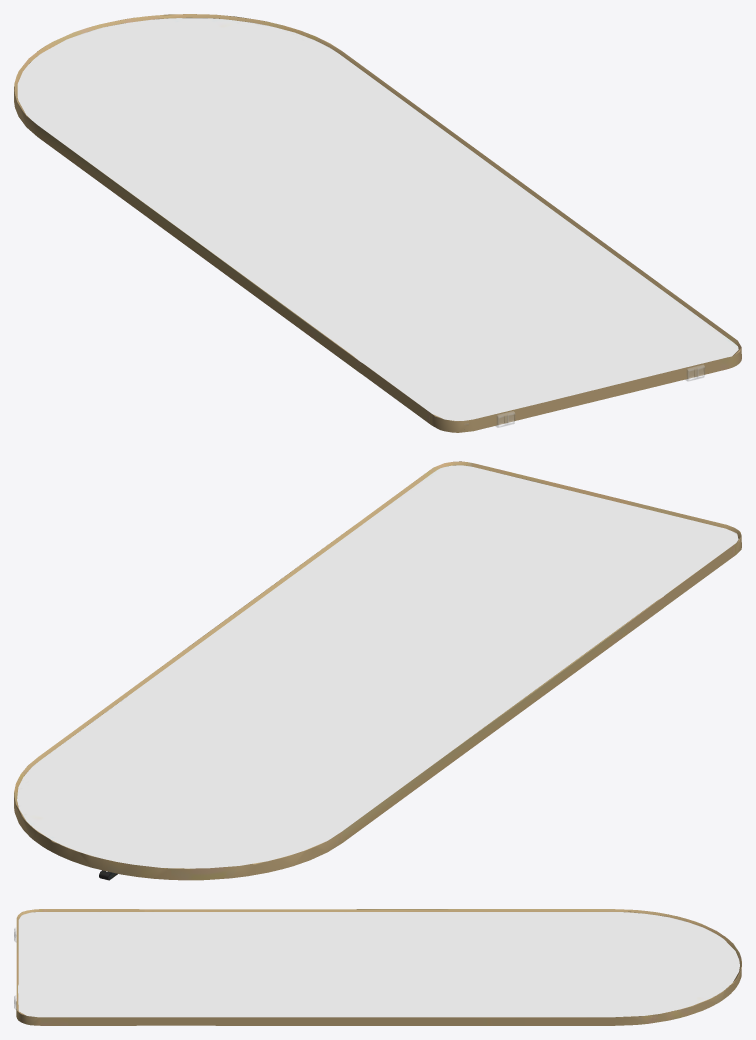
Rendered from 06 - LINDBYN Mirror - gold-colour 60x170 cm.glb.
The picture shows the model from 3 angles, top to bottom: view 1: azimuth 30°, elevation 25°; view 2: azimuth 150°, elevation 25°; view 3: azimuth 270°, elevation 25°; orthographic projection. The views are drawn at different scales.
Parts seen in each view (by area): view 1: ASY_ART_60597959_S01_NV01; view 2: ASY_ART_60597959_S01_NV01; view 3: ASY_ART_60597959_S01_NV01.
Part boxes in pixels (box(x1,y1,x2,y2)): ASY_ART_60597959_S01_NV01: box(14, 14, 741, 432); ASY_ART_60597959_S01_NV01: box(14, 461, 741, 880); ASY_ART_60597959_S01_NV01: box(14, 909, 741, 1025).
Size of the model in its own units: 0.6003 by 0.0429 by 1.71.
2 materials, 2 textured.
